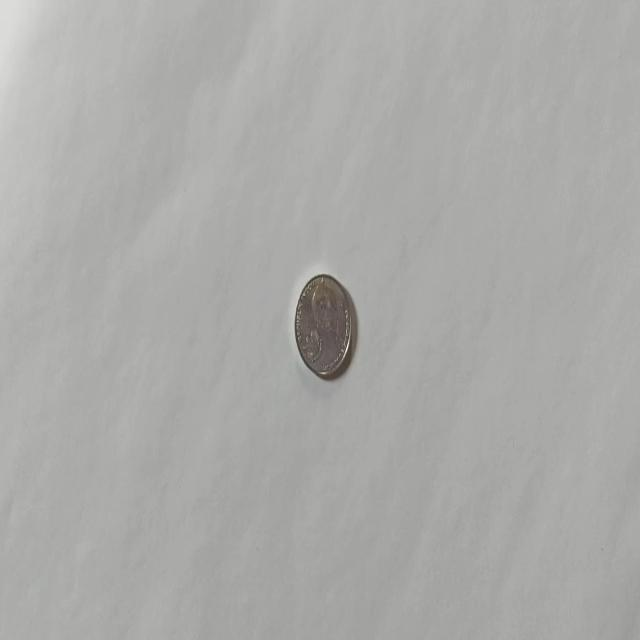lima ratus rupiah: (294, 272, 352, 380)
